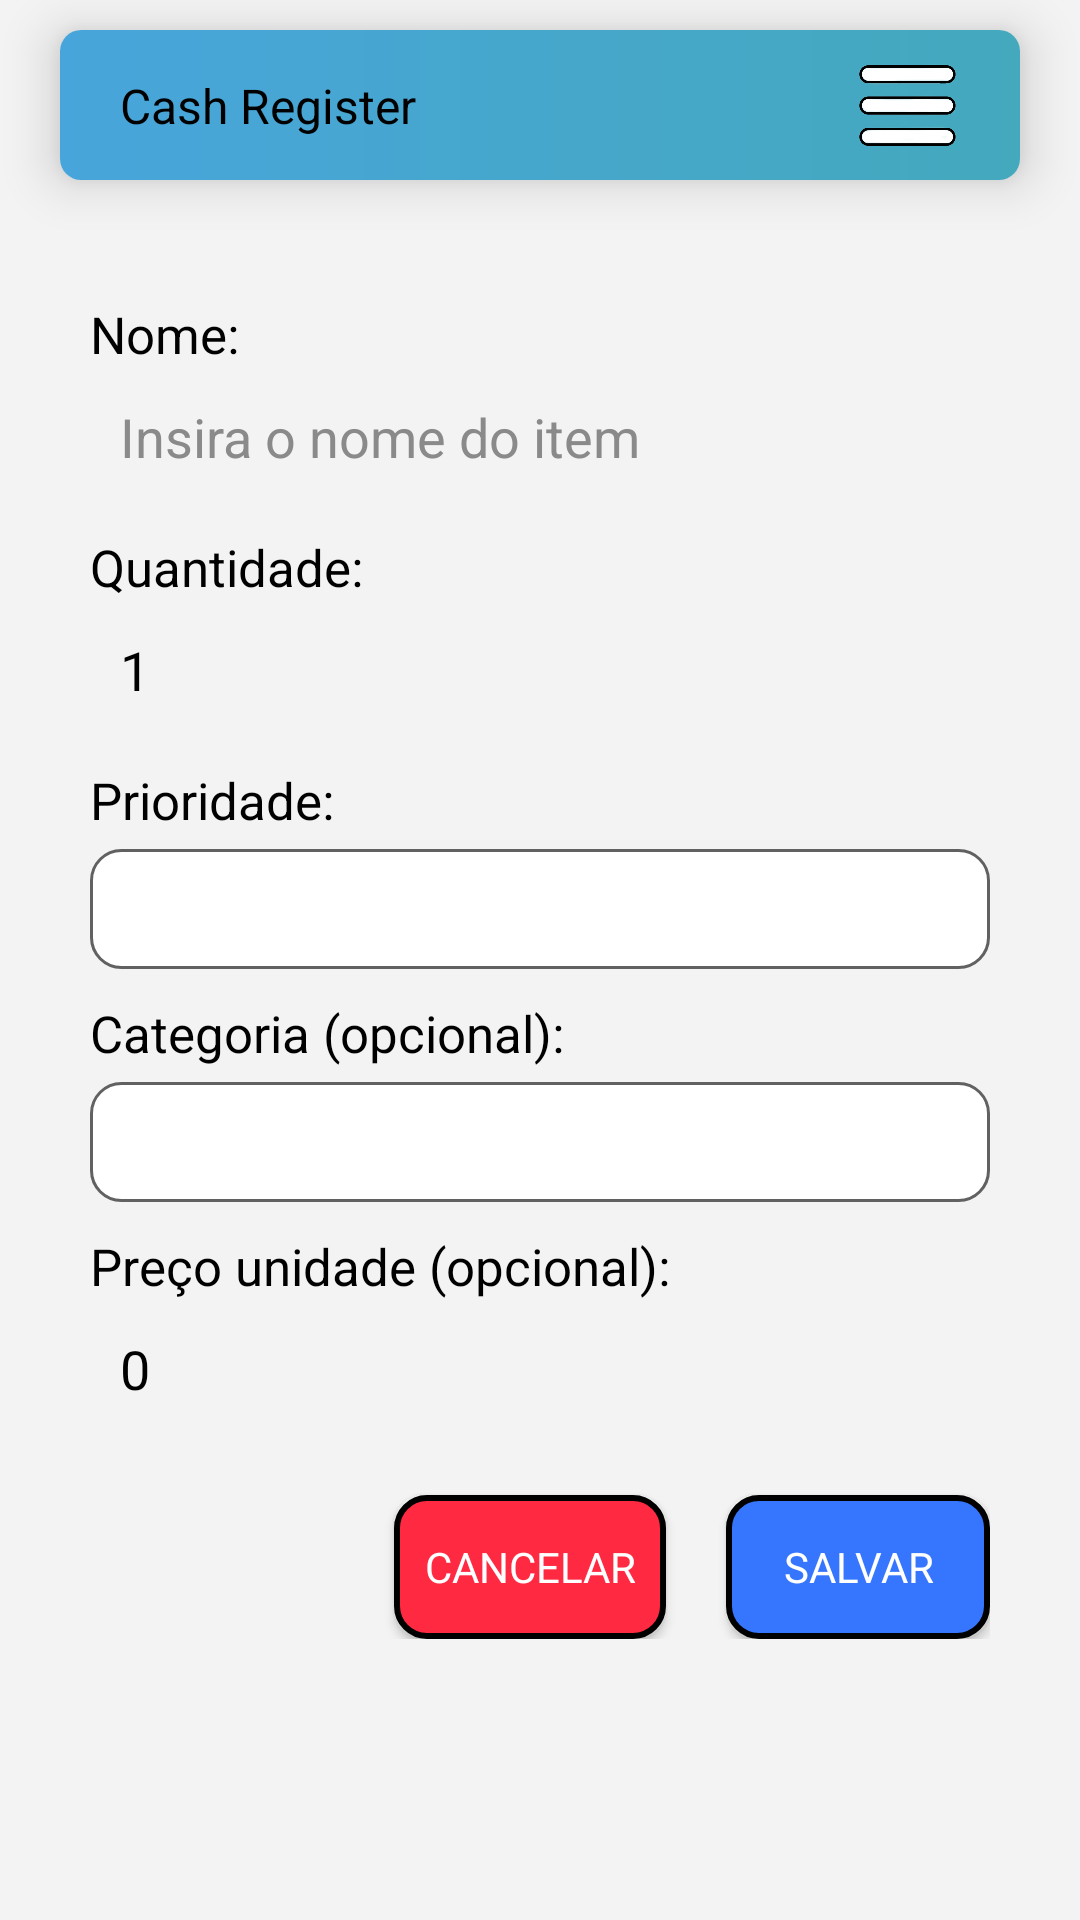

Where icons sit on this 1080px x 1920px app screen, as {"left": x1, "top": y1, "right": x2, "bottom": y2}:
menu: {"left": 859, "top": 65, "right": 956, "bottom": 146}
